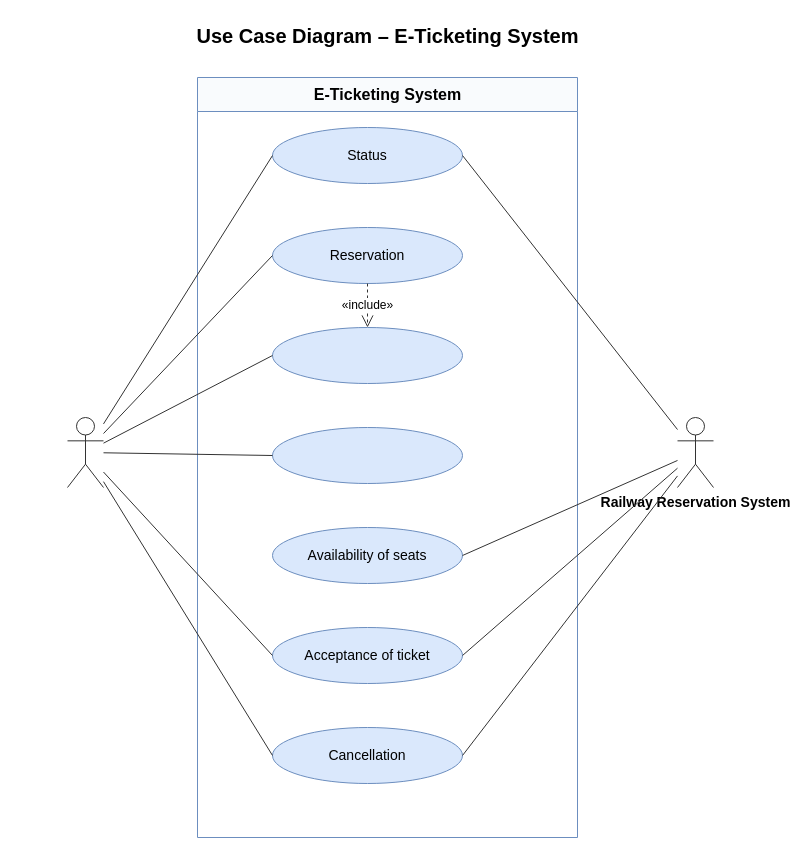
The diagram is 807 pixels wide and 855 high, and some of its shapes have lost their labels. The centre of each missing label's shape, as x and y in pixels:
"Enter the number of seats" belongs at (367,455).
"Enter the train number" belongs at (367,355).
"Passenger" belongs at (85,452).
